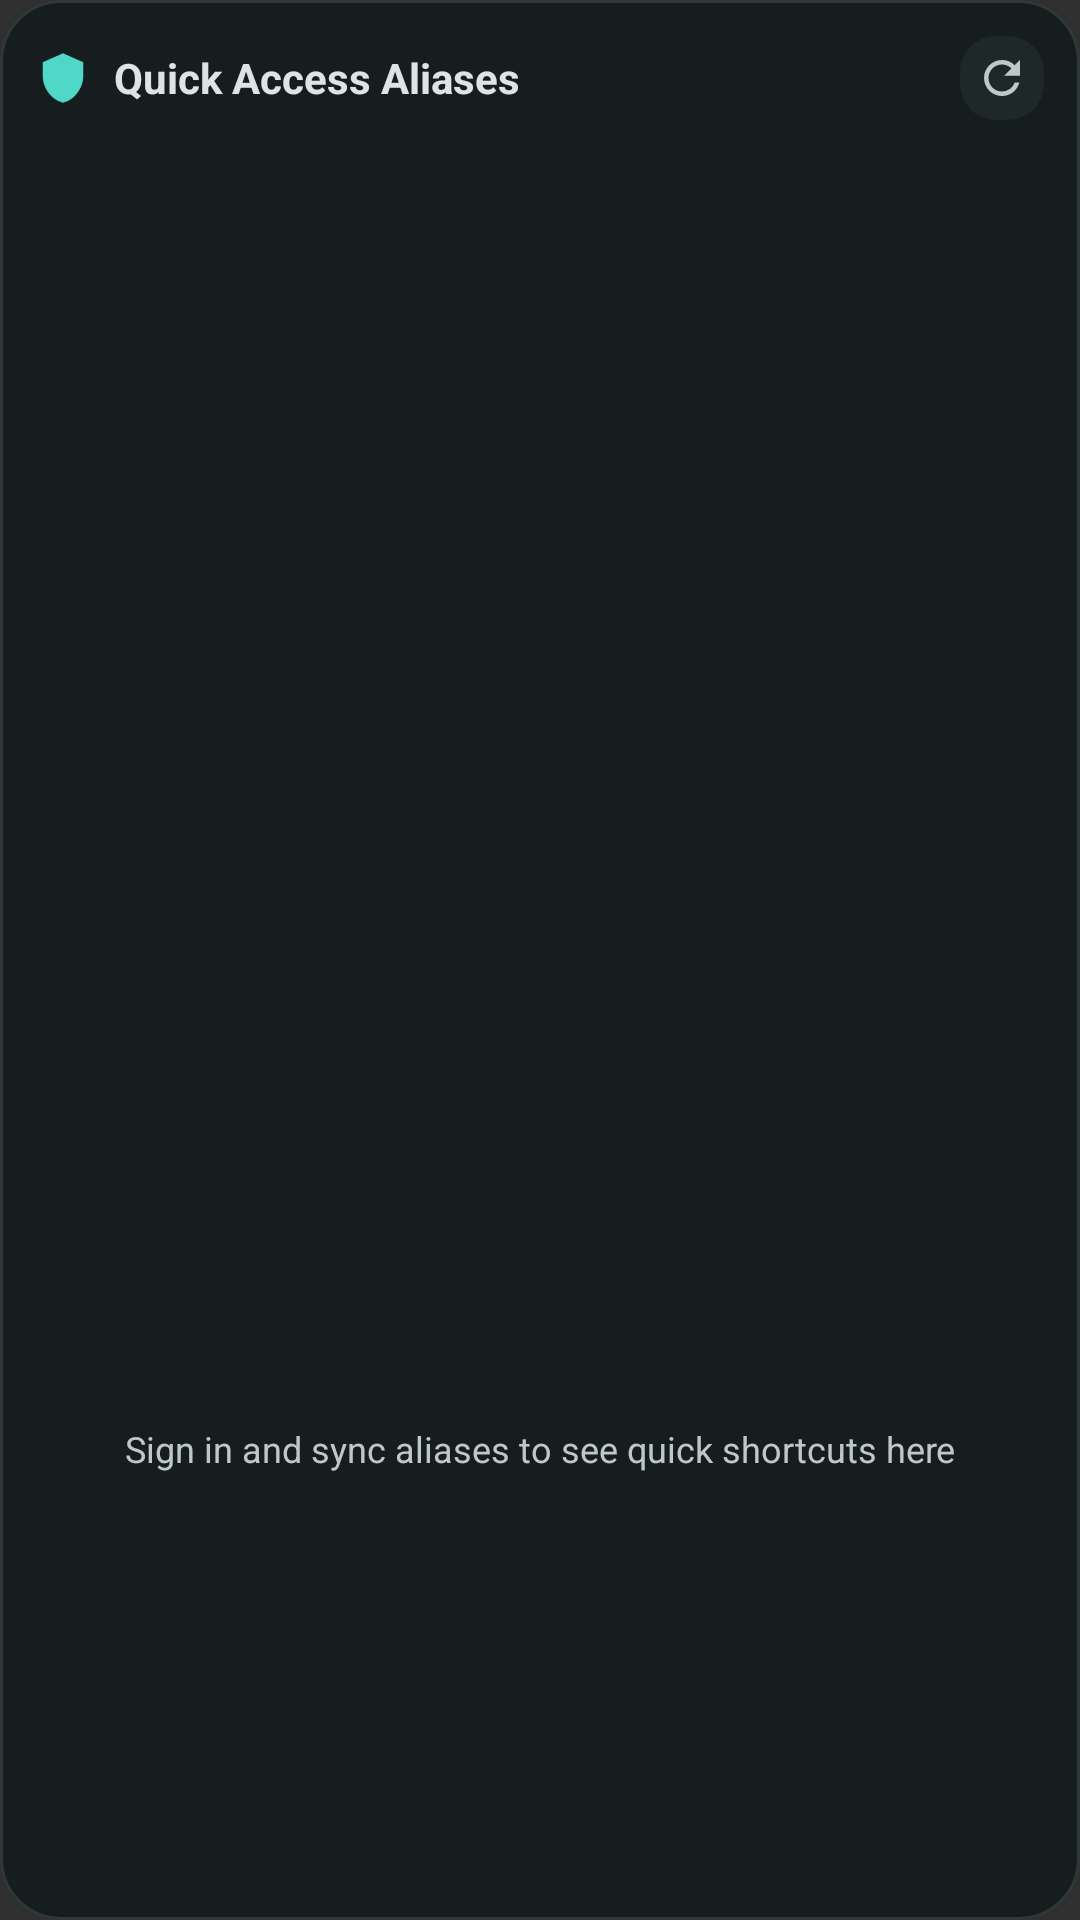

Where icons sit on this 1080px x 1920px app screen, as rect(x1, y1, x2, y2):
Refresh: rect(960, 36, 1044, 120)
